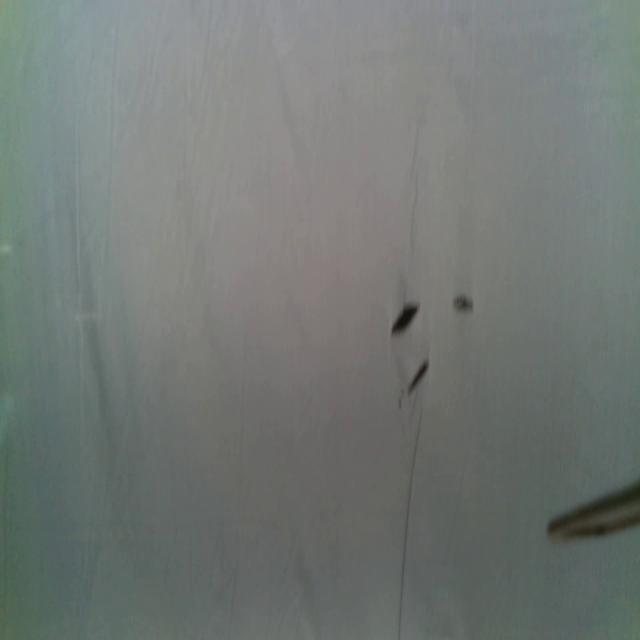crease: (397, 408, 424, 639)
hole: (390, 300, 421, 340), (408, 356, 432, 394), (452, 291, 475, 315)
